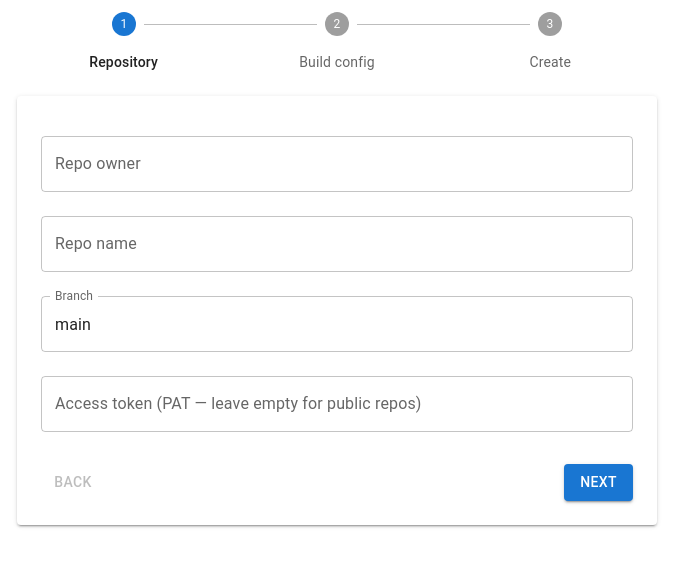
Scenario: page render smokes (11 §6) › NewAppPage renders the 3 wizard steps
Expected: the text "Repository" is shown, [89,54,158,70]
Expected: the text "Build config" is shown, [299,54,375,70]
Type "acme" into the field labelled "Repo owner" at (337, 164), box [41,136,633,192]
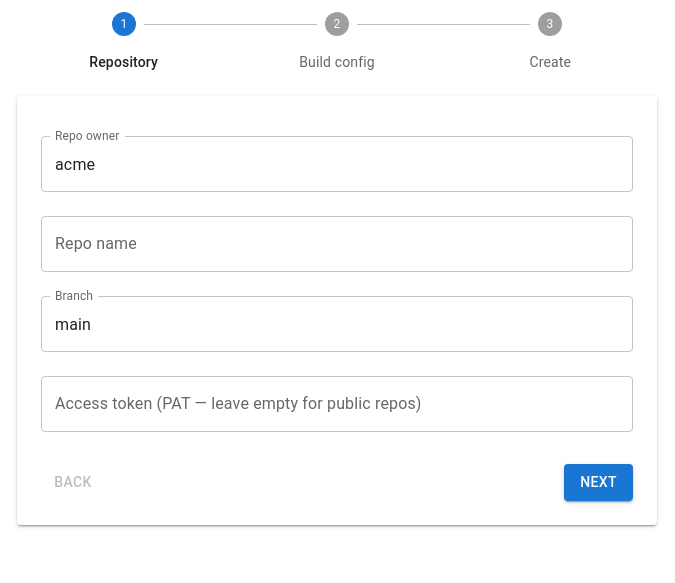
Type "demo" into the field labelled "Repo name" at (337, 244), box [41,216,633,272]
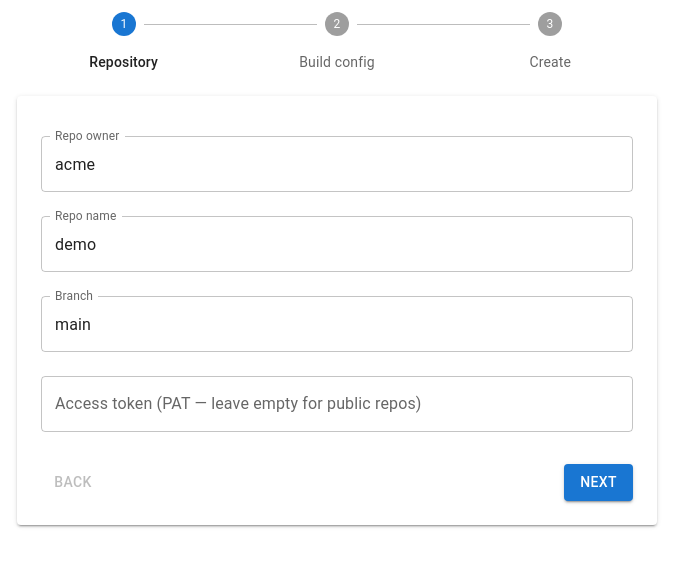
Click the button "Next" at (599, 482), box [564,464,633,500]
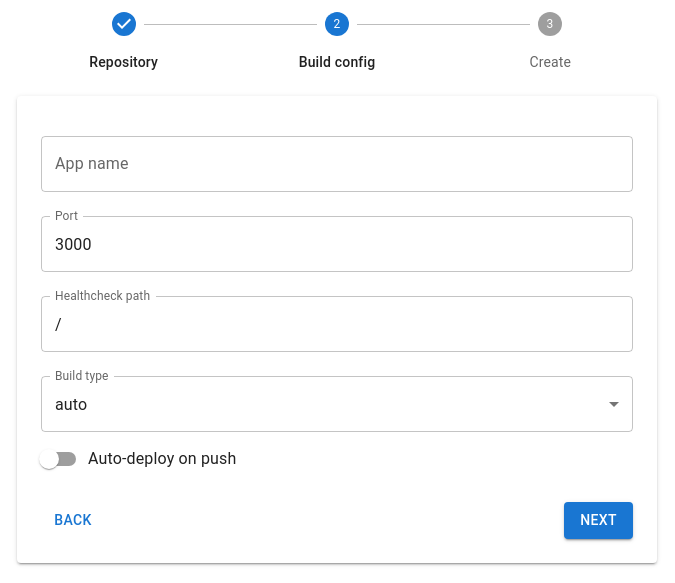
Expected: the field labelled "App name" is shown, [41,136,633,192]
